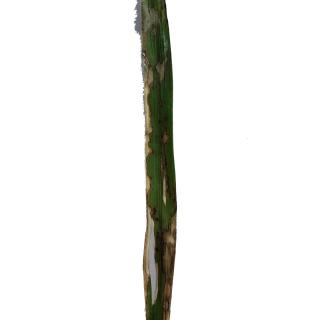Hawar-Daun: (144, 205, 179, 315), (139, 3, 172, 89), (142, 88, 162, 148), (161, 142, 171, 212), (142, 174, 159, 198)
